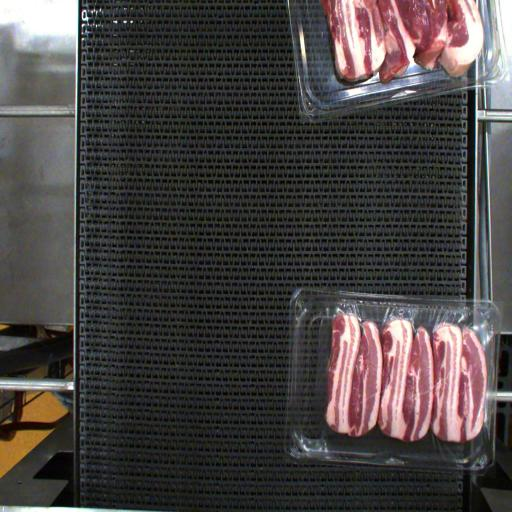unsealed: (310, 294, 494, 478)
